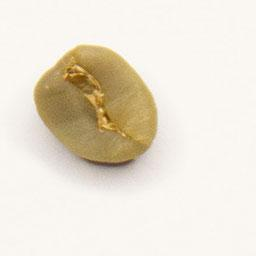premium: (30, 40, 161, 169)
